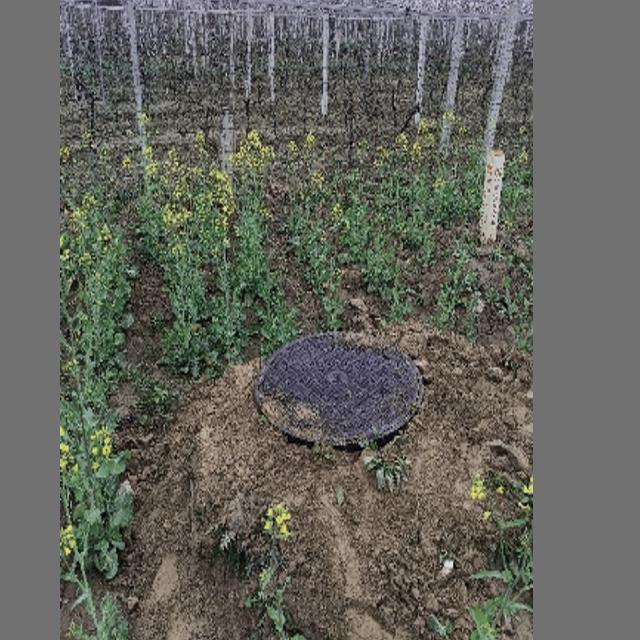good: (254, 333, 421, 445)
